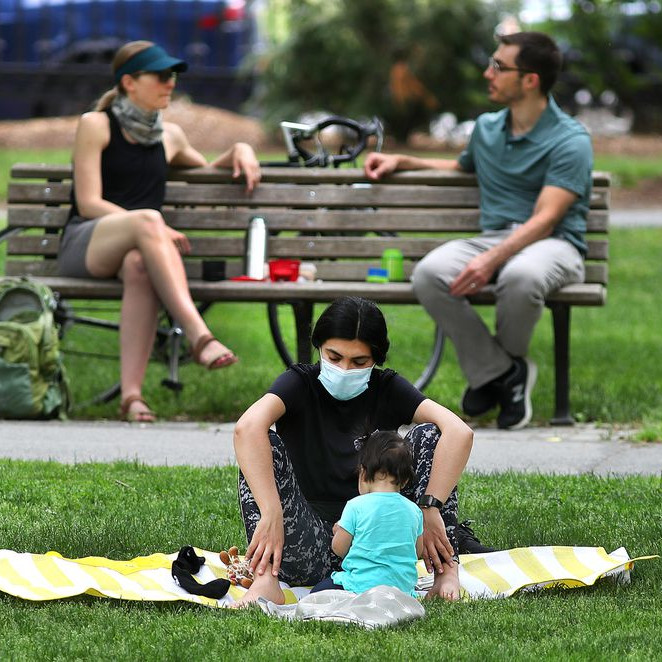human: (60, 40, 259, 422), (232, 297, 472, 609), (411, 29, 595, 432), (329, 431, 423, 609)
mask: (312, 296, 388, 400)
no_mask: (484, 30, 557, 106), (114, 39, 174, 110)
